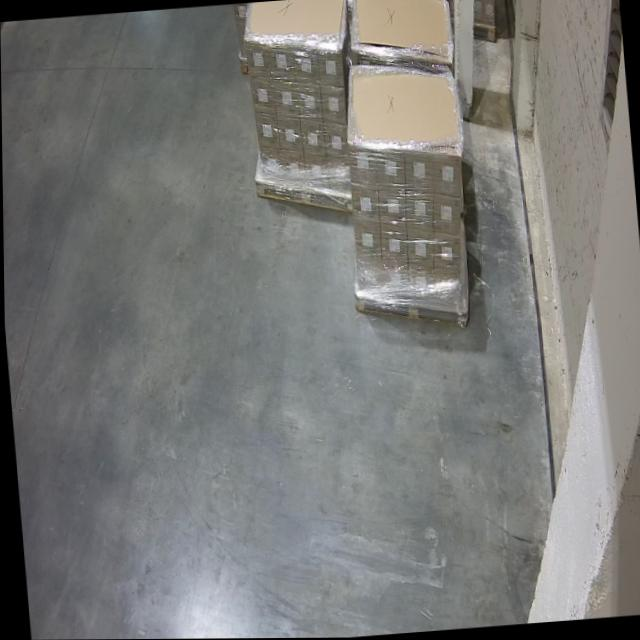pallet: (348, 65, 461, 153), (350, 0, 453, 60), (243, 0, 345, 45)
